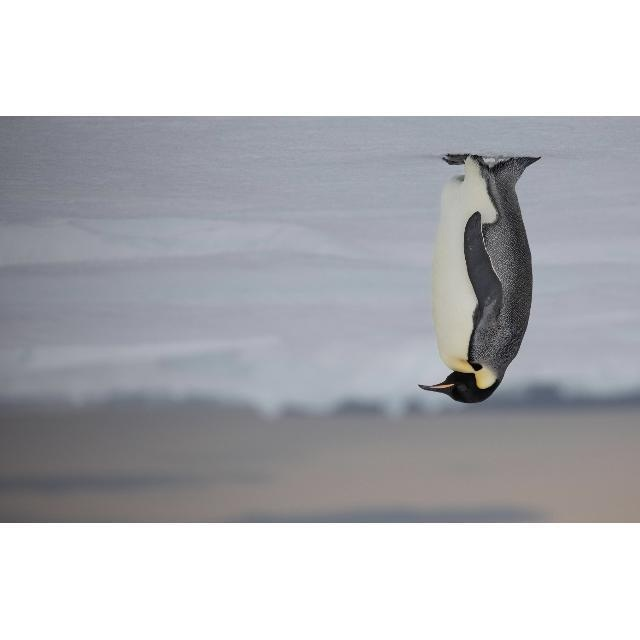penguin: (416, 153, 542, 406)
